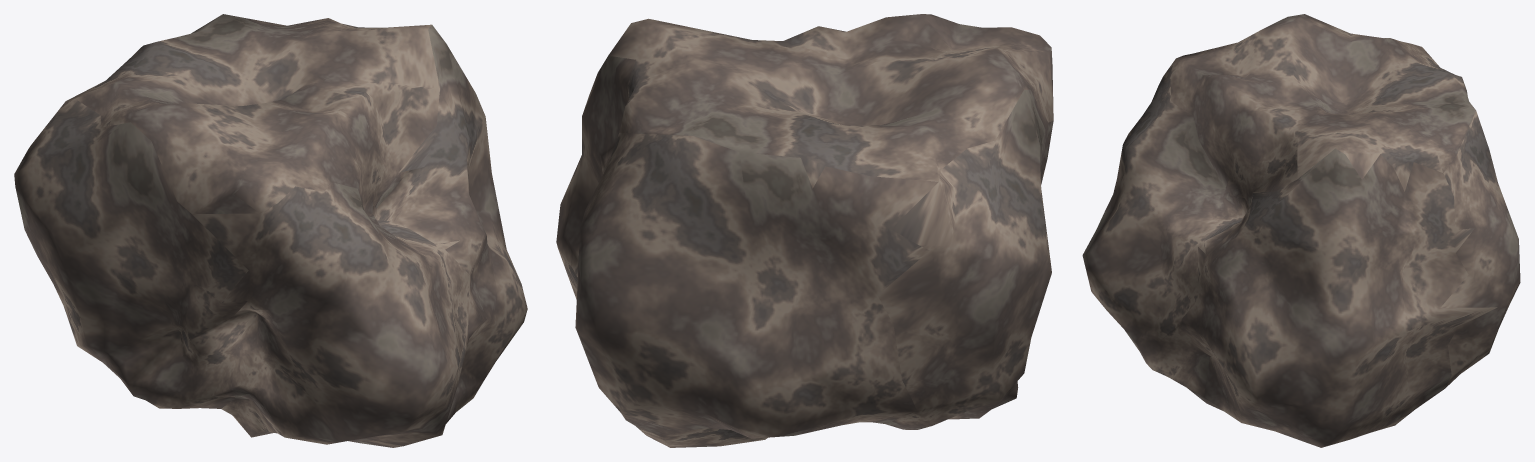
File: boulder3.fbx
3 renders of one model, left to right at view 1: azimuth 30°, elevation 25°; view 2: azimuth 150°, elevation 25°; view 3: azimuth 270°, elevation 25°, orthographic. The views are drawn at different scales.
Visible parts, largest first — view 1: boulder; view 2: boulder; view 3: boulder.
Part boxes in pixels (x1=…): boulder: x1=14, y1=14, x2=527, y2=447; boulder: x1=556, y1=14, x2=1053, y2=447; boulder: x1=1082, y1=14, x2=1520, y2=447.
Bounding box in the file's own units: 125 × 97.96 × 126.
Materials: 1 (1 with a texture image).
